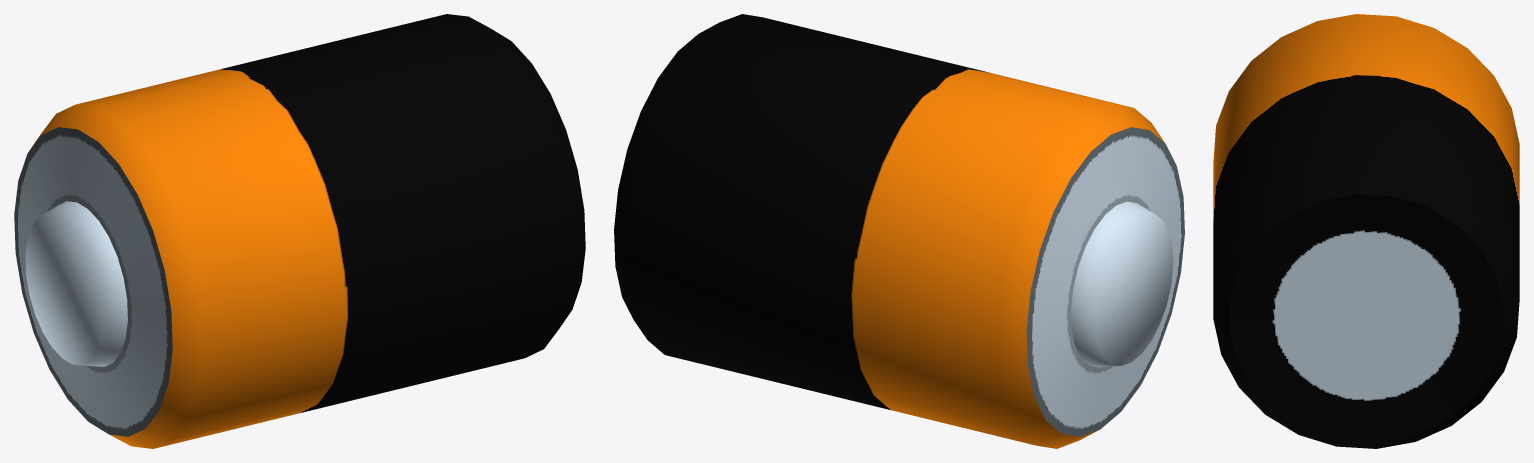
File: Ammo.fbx
The picture shows the model from 3 angles, left to right: view 1: azimuth 30°, elevation 25°; view 2: azimuth 150°, elevation 25°; view 3: azimuth 270°, elevation 25°; orthographic projection. The views are drawn at different scales.
Parts seen in each view (by area): view 1: Ammo; view 2: Ammo; view 3: Ammo.
Part boxes in pixels (bbox=[...]): Ammo: bbox=[14, 14, 585, 448]; Ammo: bbox=[614, 14, 1184, 448]; Ammo: bbox=[1213, 14, 1519, 448].
Bounding box in the file's own units: 144 × 99.79 × 99.79.
1 material, 1 textured.
